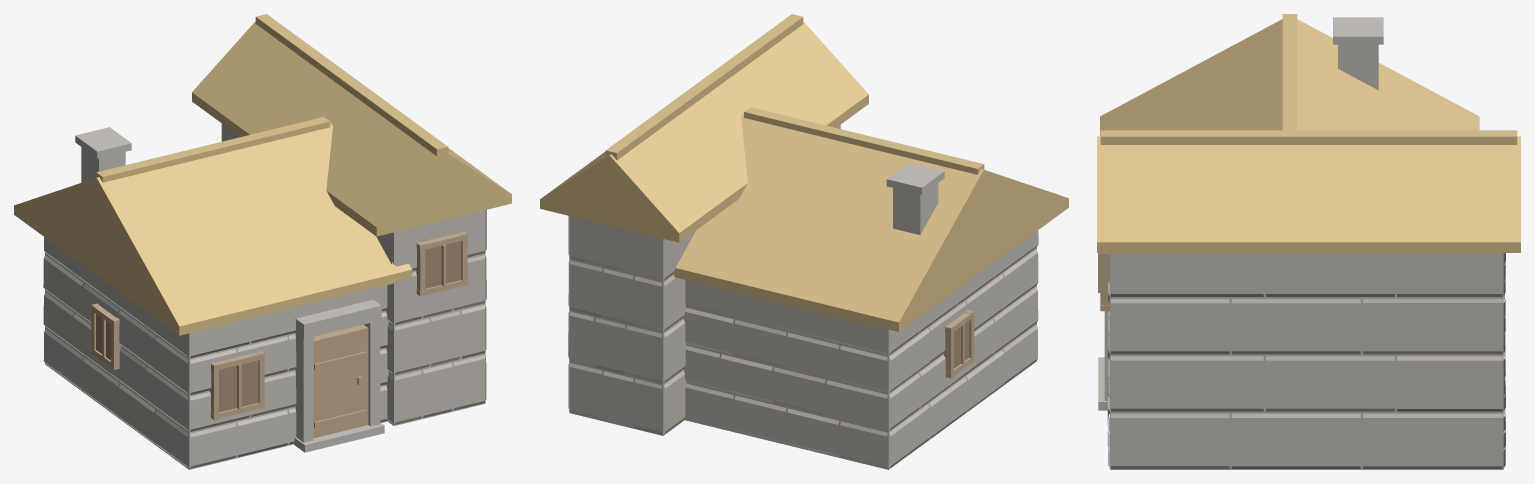
Rendered from stone-house-cross-gable.glb.
3 renders of one model, left to right at view 1: azimuth 30°, elevation 25°; view 2: azimuth 150°, elevation 25°; view 3: azimuth 270°, elevation 25°, orthographic. The views are drawn at different scales.
Parts seen in each view (by area): view 1: stone-house-cross-gable_roof, stone-house-cross-gable_stone, stone-house-cross-gable_door, stone-house-cross-gable_wood, stone-house-cross-gable_window; view 2: stone-house-cross-gable_roof, stone-house-cross-gable_stone, stone-house-cross-gable_wood; view 3: stone-house-cross-gable_stone, stone-house-cross-gable_roof, stone-house-cross-gable_wood.
Boxes of the visible parts, x1=… form: stone-house-cross-gable_roof: x1=14, y1=14, x2=511, y2=335; stone-house-cross-gable_stone: x1=43, y1=123, x2=486, y2=469; stone-house-cross-gable_door: x1=313, y1=324, x2=368, y2=437; stone-house-cross-gable_wood: x1=91, y1=231, x2=467, y2=419; stone-house-cross-gable_window: x1=96, y1=241, x2=461, y2=412; stone-house-cross-gable_roof: x1=540, y1=14, x2=1068, y2=331; stone-house-cross-gable_stone: x1=568, y1=125, x2=1038, y2=469; stone-house-cross-gable_wood: x1=943, y1=309, x2=974, y2=378; stone-house-cross-gable_stone: x1=1098, y1=17, x2=1505, y2=469; stone-house-cross-gable_roof: x1=1097, y1=14, x2=1520, y2=252; stone-house-cross-gable_wood: x1=1098, y1=253, x2=1109, y2=311.
Size of the model in its own units: 1.99 by 1.55 by 1.92.
